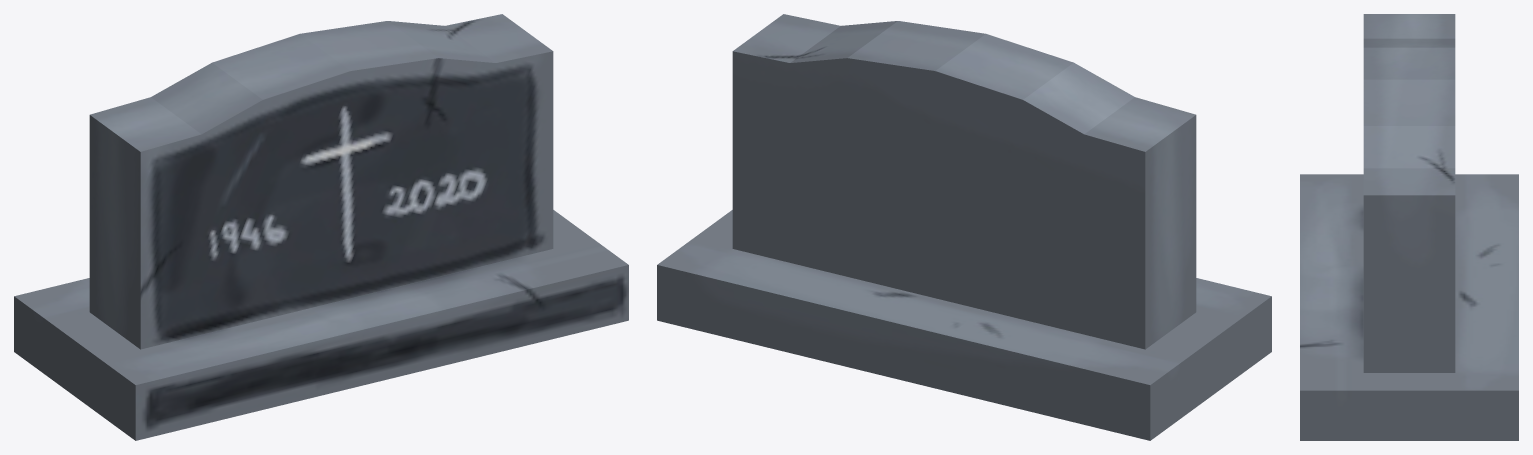
File: lapide2.fbx
3 views of the same model, side by side, from view 1: azimuth 30°, elevation 25°; view 2: azimuth 150°, elevation 25°; view 3: azimuth 270°, elevation 25° (orthographic). The views are drawn at different scales.
Visible parts, largest first — view 1: lapide2; view 2: lapide2; view 3: lapide2.
Boxes of the visible parts, box(x1,y1,x2,y2) form: lapide2: box(14, 14, 628, 440); lapide2: box(657, 14, 1271, 440); lapide2: box(1300, 14, 1518, 440).
Bounding box in the file's own units: 469 × 257 × 200.
